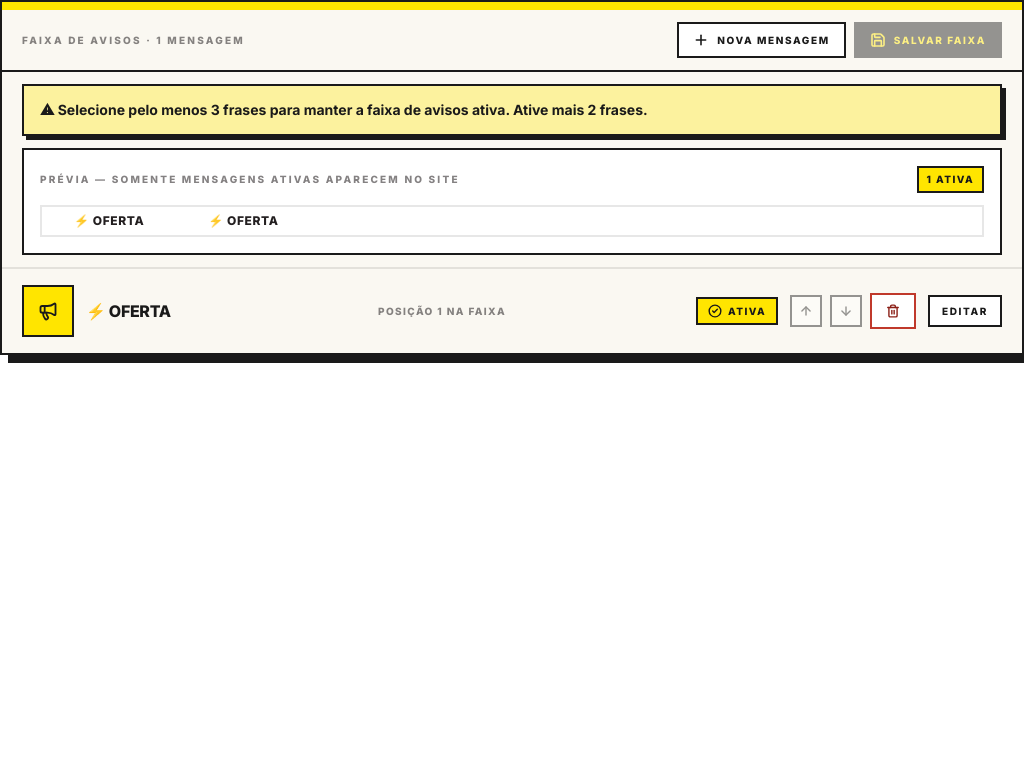
Test case: MarqueeGroup › lista uma linha por mensagem e abre o editor no clique
The image size is (1024, 768).
Expected: the text "Faixa de avisos · 1 mensagem" is shown, [22, 32, 245, 48]
Click the button with aria-label "editar ⚡ oferta".
click(965, 311)  # box [928, 295, 1002, 327]
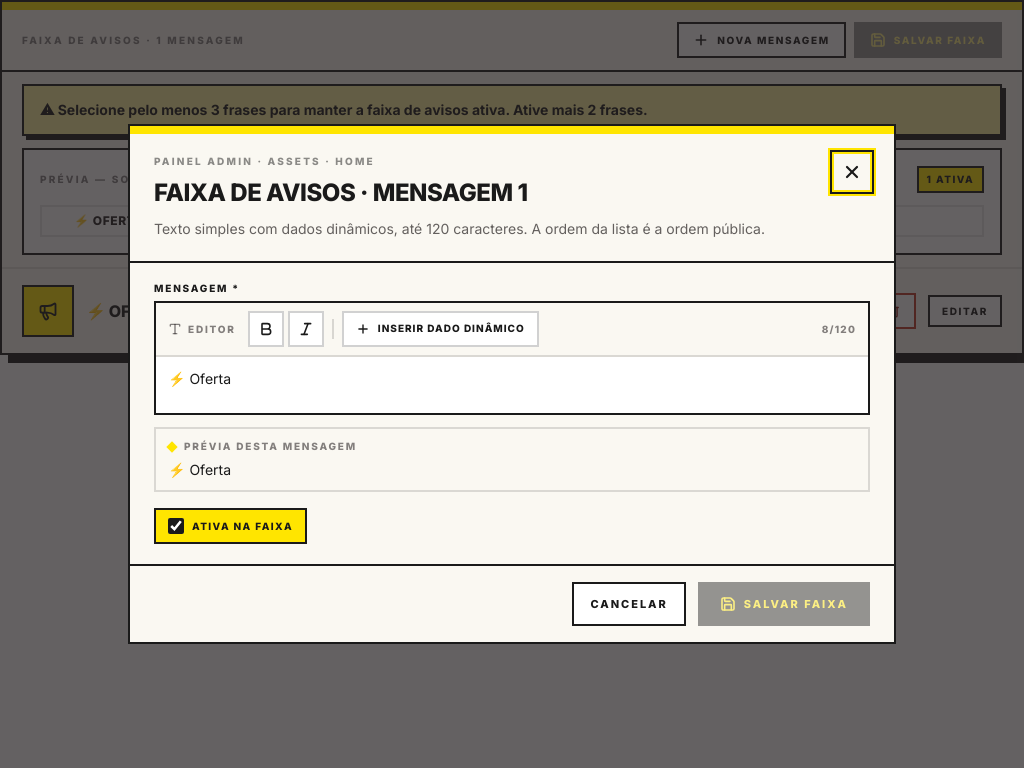
Result: the dialog is shown at [128, 124, 896, 644]
Result: the heading "Faixa de avisos · mensagem 1" is shown at [154, 178, 528, 207]
